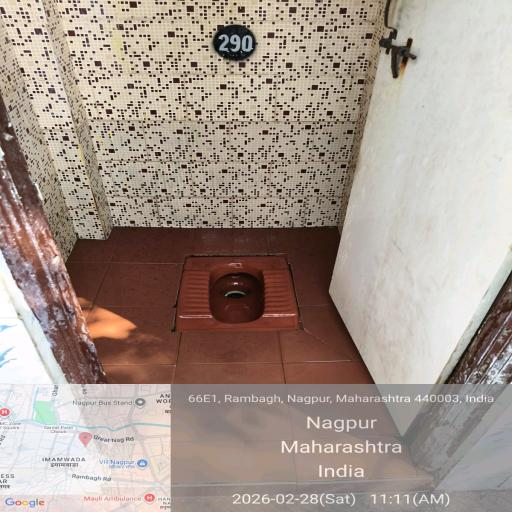clean_floor: (67, 245, 462, 487), (32, 52, 436, 218)
clean_indian: (165, 251, 314, 349)
